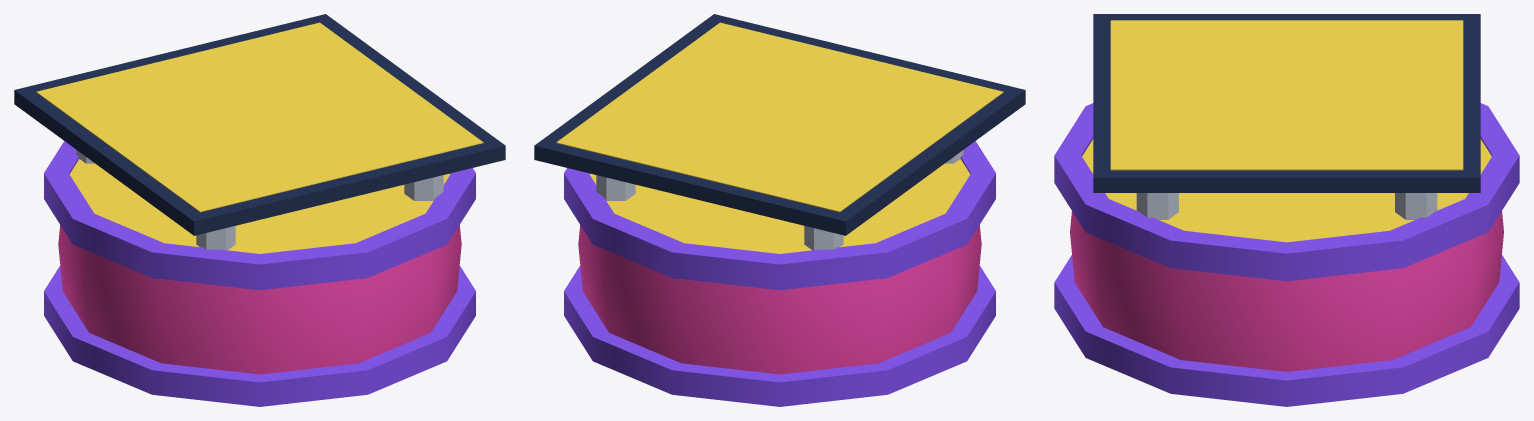
Rendered from toy_drum_lod1.glb.
The picture shows the model from 3 angles, left to right: view 1: azimuth 30°, elevation 25°; view 2: azimuth 150°, elevation 25°; view 3: azimuth 270°, elevation 25°; orthographic projection. The views are drawn at different scales.
Visible parts, largest first — view 1: toy_drum_LOD1; view 2: toy_drum_LOD1; view 3: toy_drum_LOD1.
Boxes of the visible parts, box(x1,y1,x2,y2) form: toy_drum_LOD1: box(14, 14, 505, 406); toy_drum_LOD1: box(534, 14, 1025, 406); toy_drum_LOD1: box(1054, 14, 1519, 406).
Size of the model in its own units: 9.9 by 5.02 by 9.9.
1 material, 1 textured.
